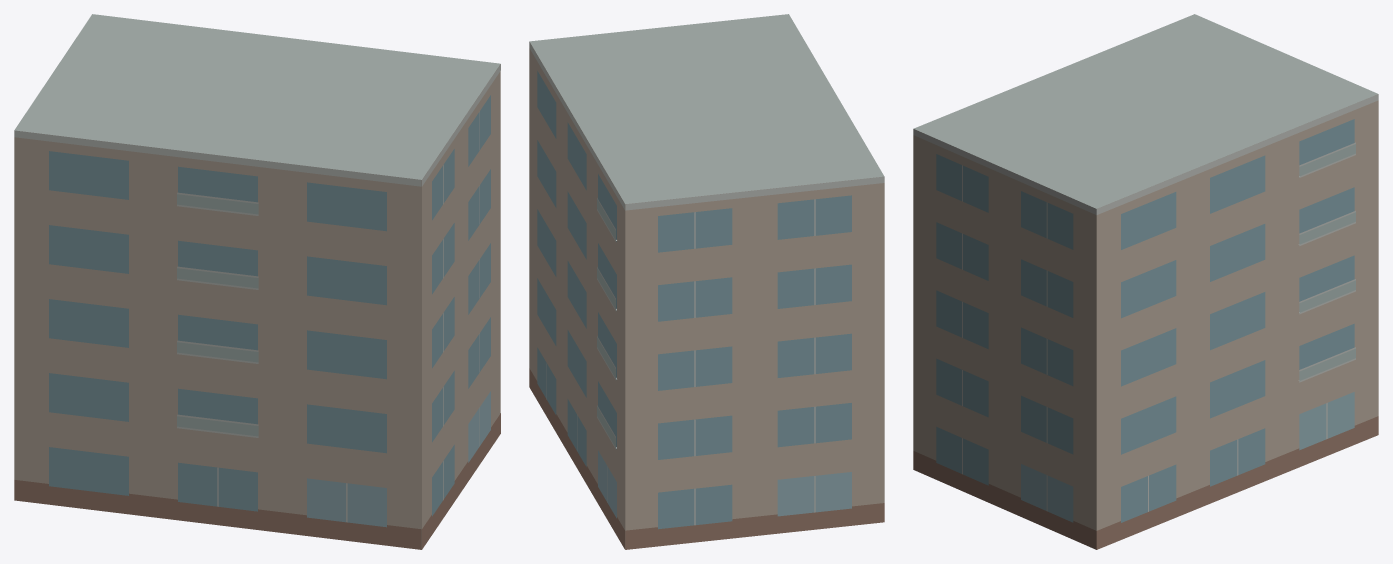
Rendered from survey-upis-32849458.glb.
The picture shows the model from 3 angles, left to right: view 1: azimuth 30°, elevation 25°; view 2: azimuth 150°, elevation 25°; view 3: azimuth 270°, elevation 25°; orthographic projection. The views are drawn at different scales.
Parts seen in each view (by area): view 1: survey-upis-32849458.tmp; view 2: survey-upis-32849458.tmp; view 3: survey-upis-32849458.tmp.
Boxes of the visible parts, box(x1,y1,x2,y2) form: survey-upis-32849458.tmp: box(14, 14, 500, 549); survey-upis-32849458.tmp: box(529, 14, 884, 549); survey-upis-32849458.tmp: box(913, 14, 1378, 549).
Size of the model in its own units: 16.19 by 13.2 by 16.33.
